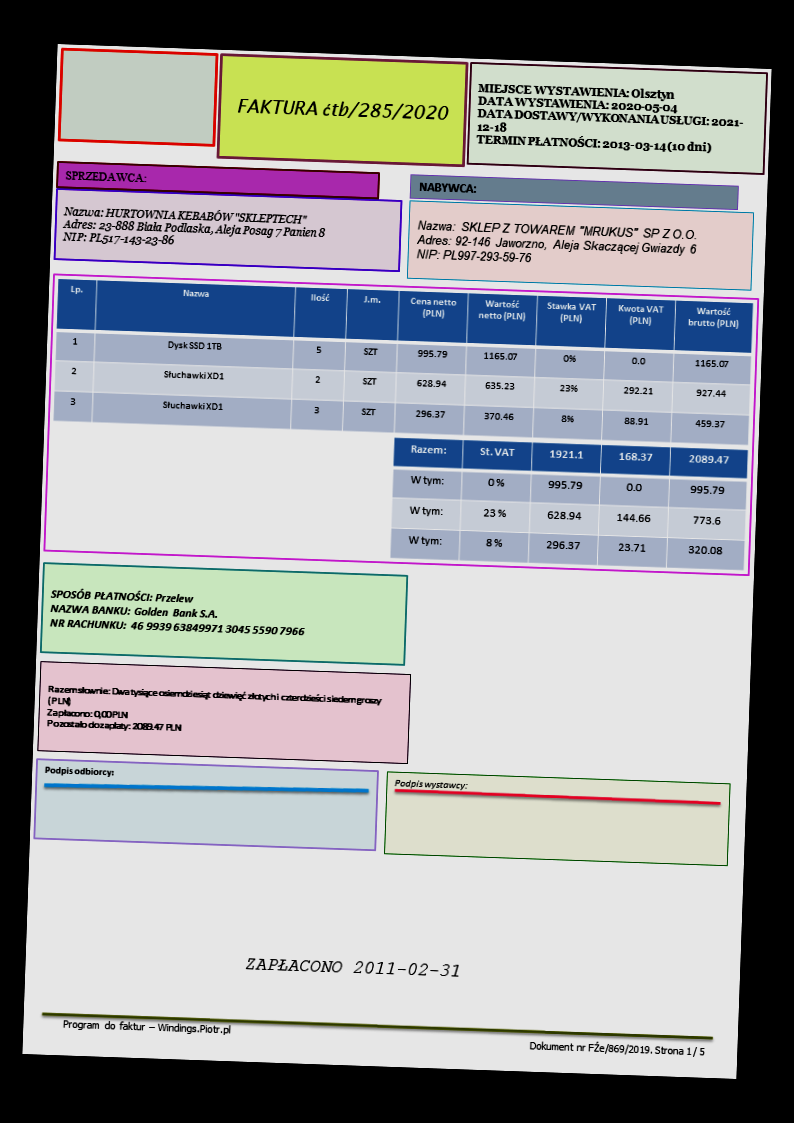Table: (52, 278, 753, 446), (388, 436, 749, 571)
TextBox: (475, 81, 746, 156), (44, 682, 384, 741), (415, 217, 700, 272), (48, 586, 308, 639), (60, 204, 325, 253), (235, 93, 450, 125), (244, 956, 462, 981), (527, 1037, 706, 1063), (60, 1018, 232, 1038), (63, 168, 149, 186), (41, 764, 119, 780), (393, 778, 469, 792), (417, 180, 478, 197)
